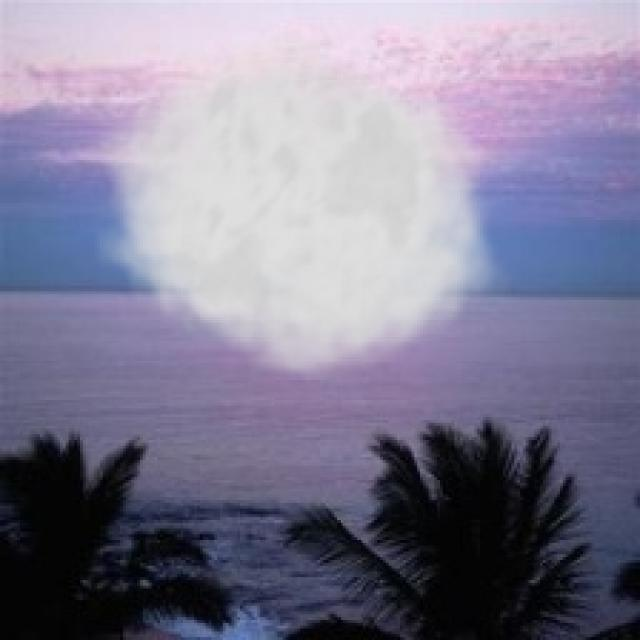Smoke: (94, 20, 512, 389)
